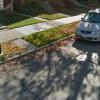Car: (74, 4, 100, 51)
